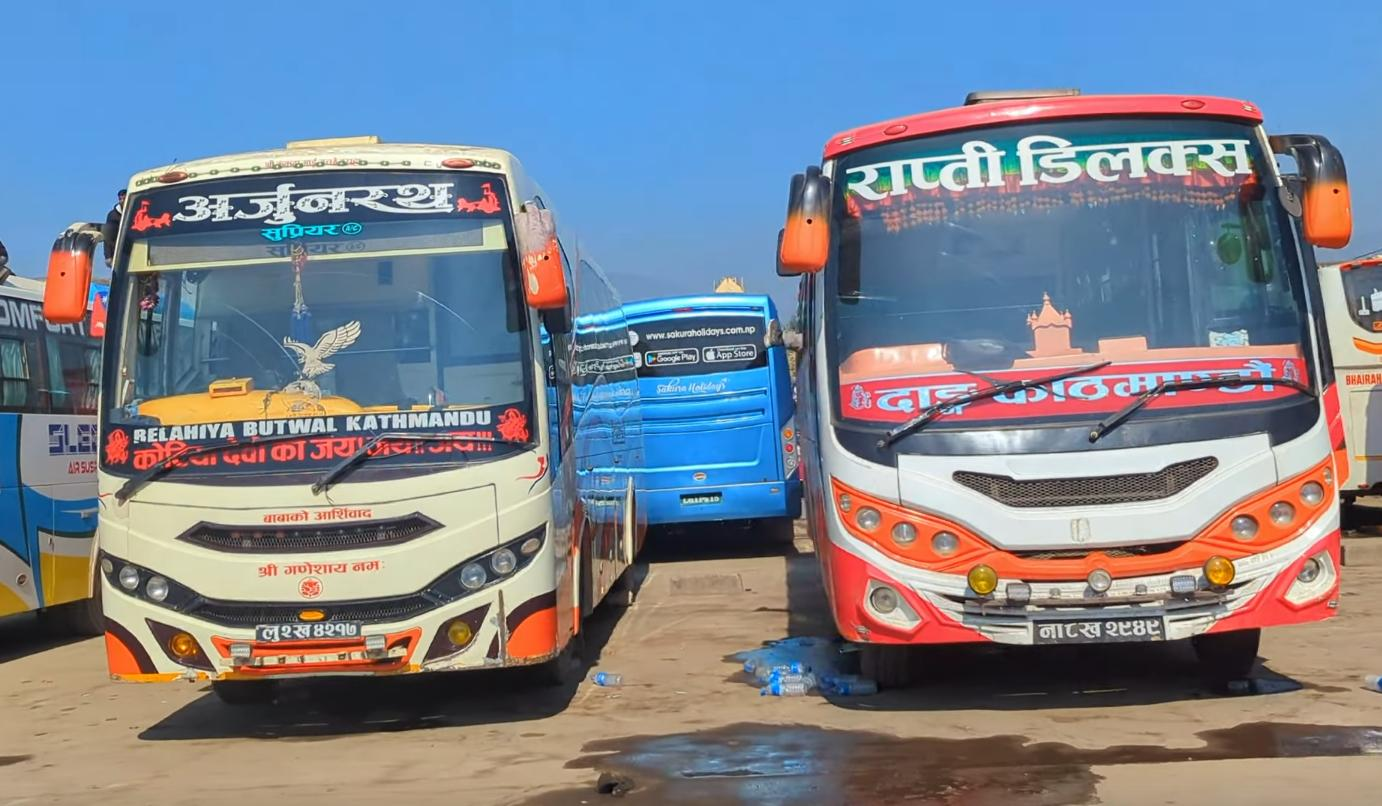bus: (758, 60, 1382, 709), (30, 124, 656, 718)
